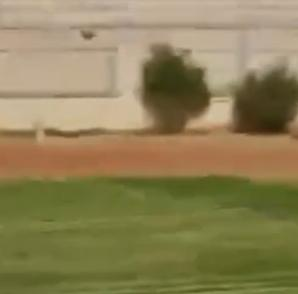ball: (75, 23, 101, 45)
